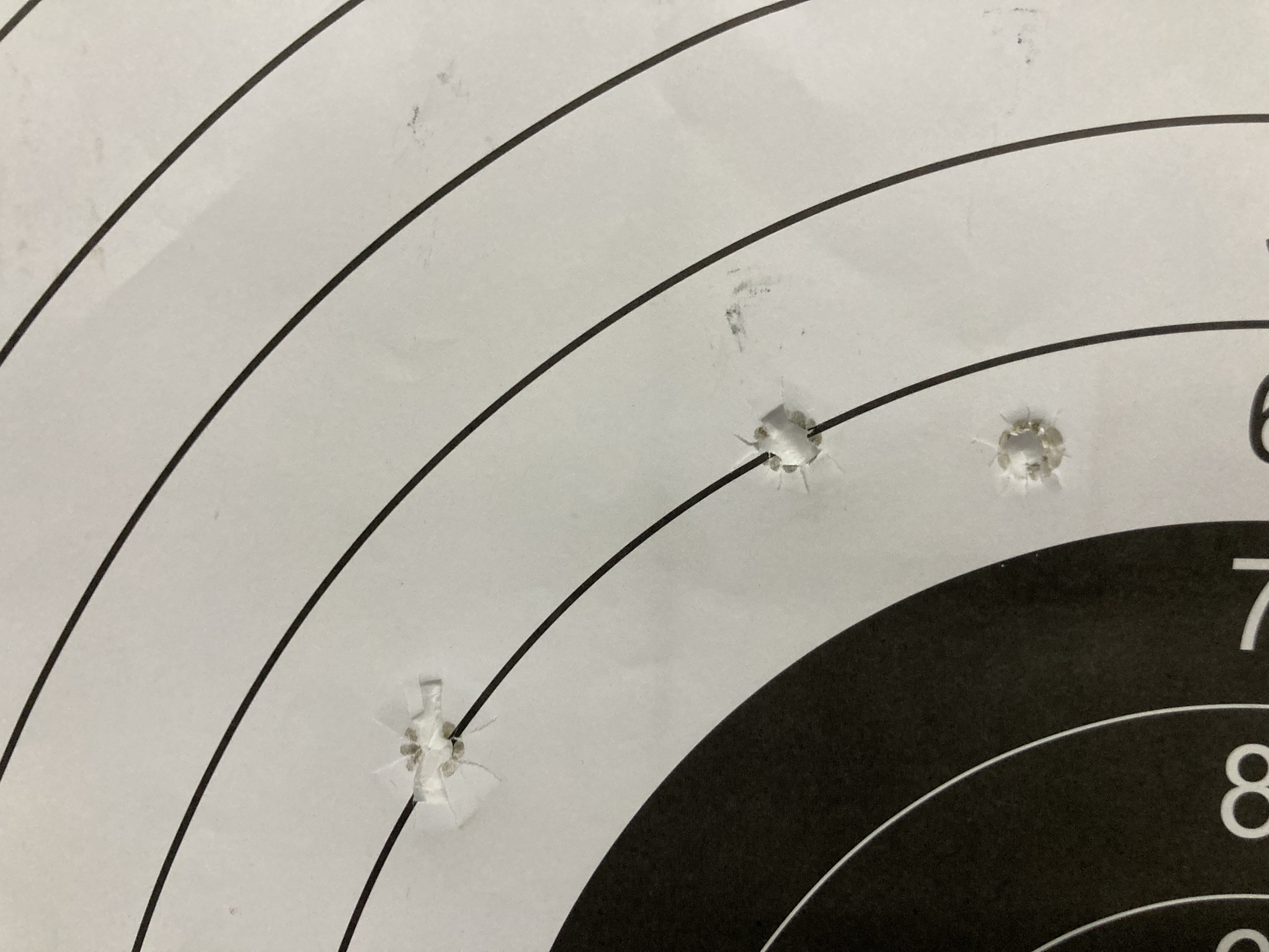hole: (365, 680, 497, 822), (733, 403, 866, 516), (976, 409, 1083, 526)
